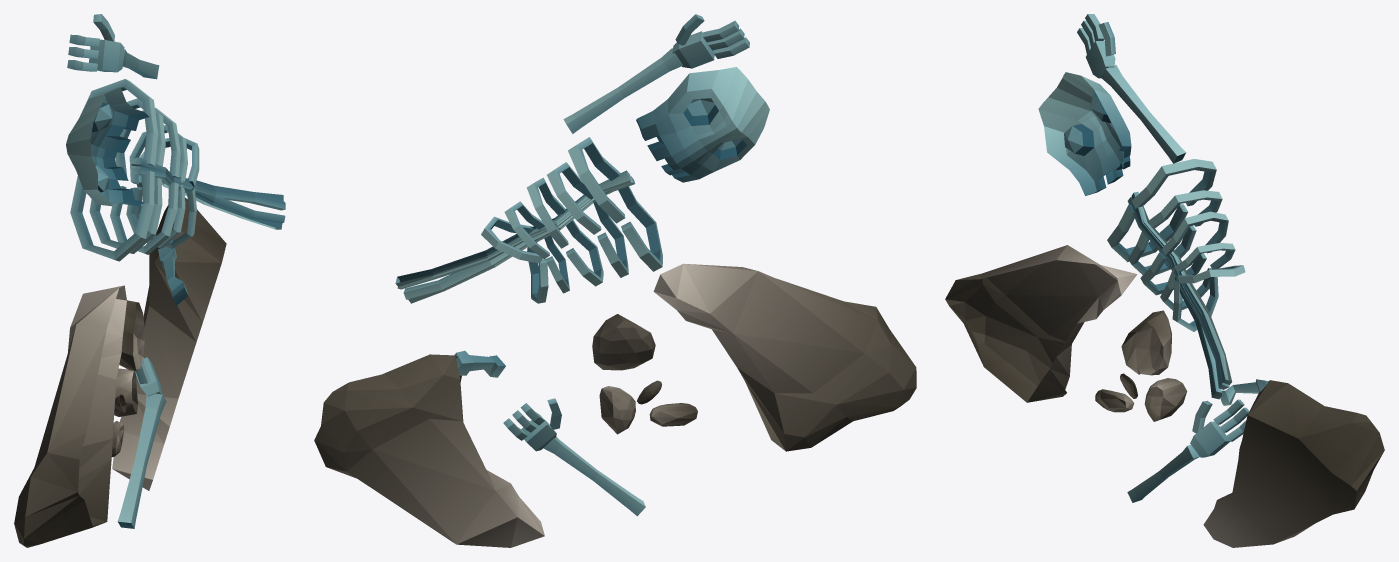
File: Decorado13.Prop.13.fbx
The picture shows the model from 3 angles, left to right: view 1: azimuth 30°, elevation 25°; view 2: azimuth 150°, elevation 25°; view 3: azimuth 270°, elevation 25°; orthographic projection. The views are drawn at different scales.
Parts seen in each view (by area): view 1: StoneSkull; view 2: StoneSkull; view 3: StoneSkull.
Boxes of the visible parts, x1,y1,x2,y2 form: StoneSkull: [14, 14, 285, 547]; StoneSkull: [314, 14, 916, 547]; StoneSkull: [945, 14, 1384, 547].
Bounding box in the file's own units: 286 × 356 × 300.
